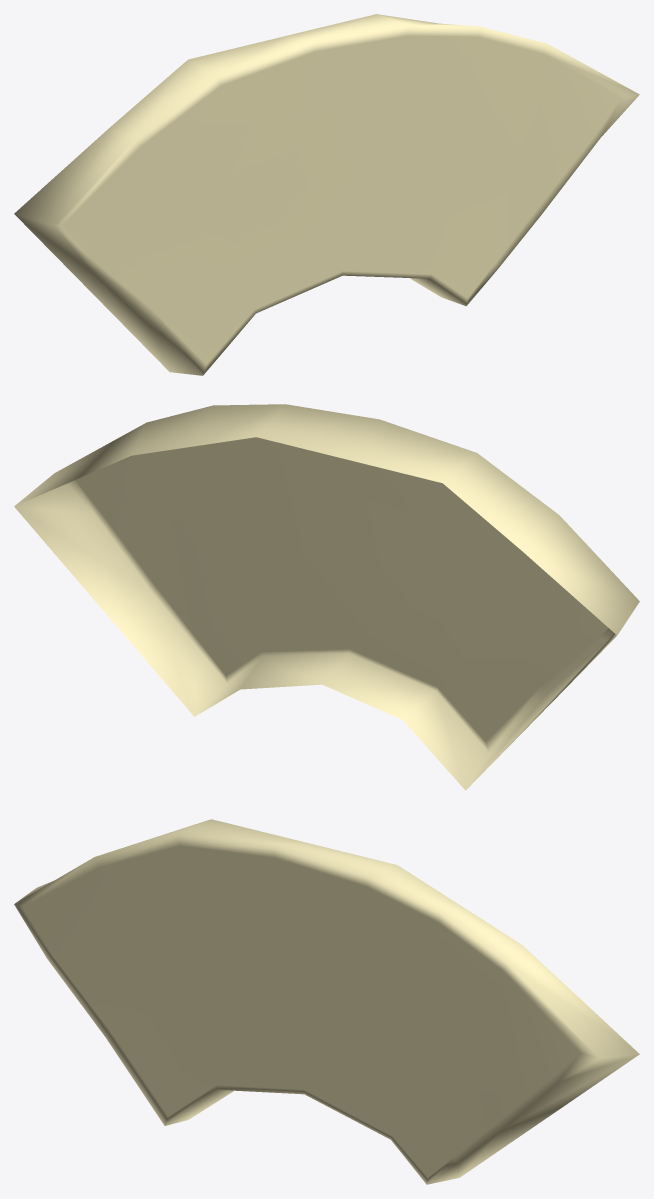
The model's file is ui_radialMenu_4_top.glb.
3 views of the same model, one above another, from view 1: azimuth 30°, elevation 25°; view 2: azimuth 150°, elevation 25°; view 3: azimuth 330°, elevation 25° (orthographic).
Parts seen in each view (by area): view 1: main4_top; view 2: main4_top; view 3: main4_top.
Part boxes in pixels (bbox=[...]): main4_top: bbox=[14, 14, 639, 375]; main4_top: bbox=[14, 404, 639, 790]; main4_top: bbox=[14, 819, 639, 1184].
Bounding box in the file's own units: 1.43 × 0.7265 × 0.1324.
